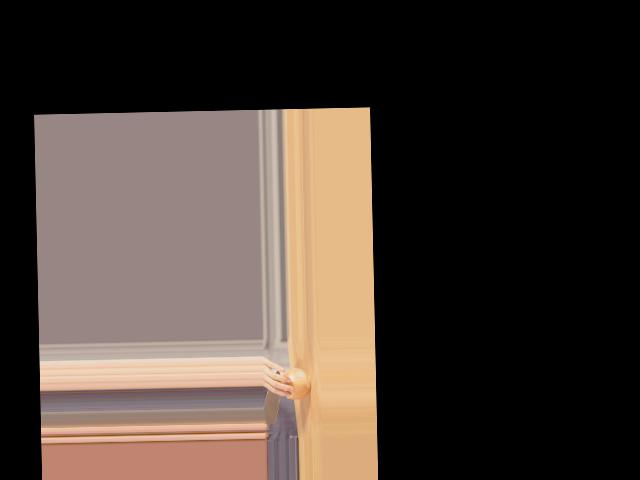onion: (280, 368, 311, 400)
